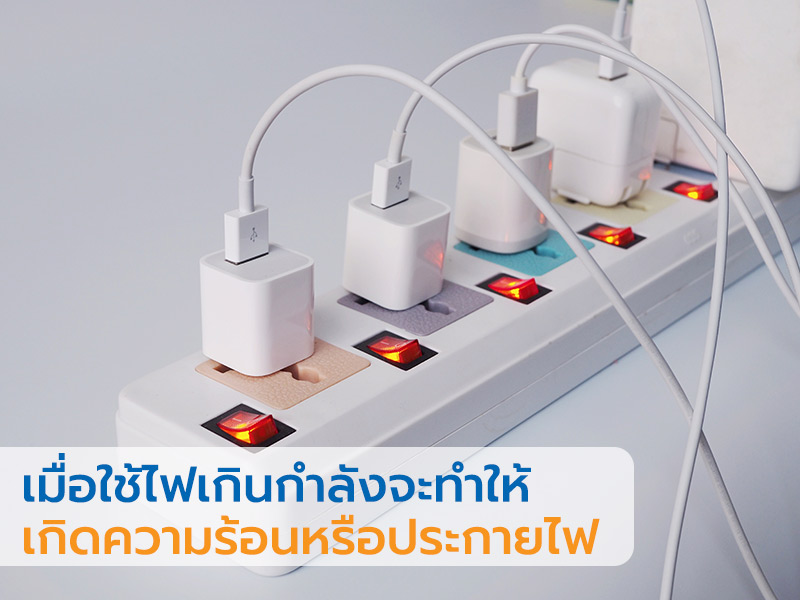Three_eye_plug: (104, 106, 800, 451)
